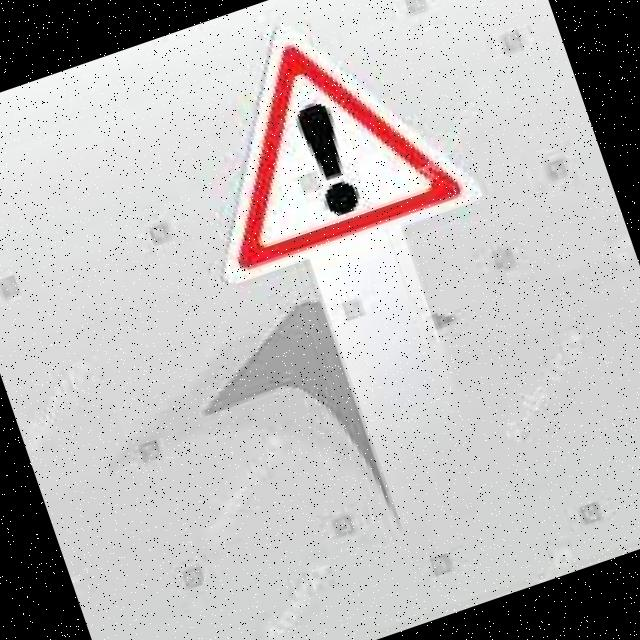warning: (156, 0, 462, 284)
